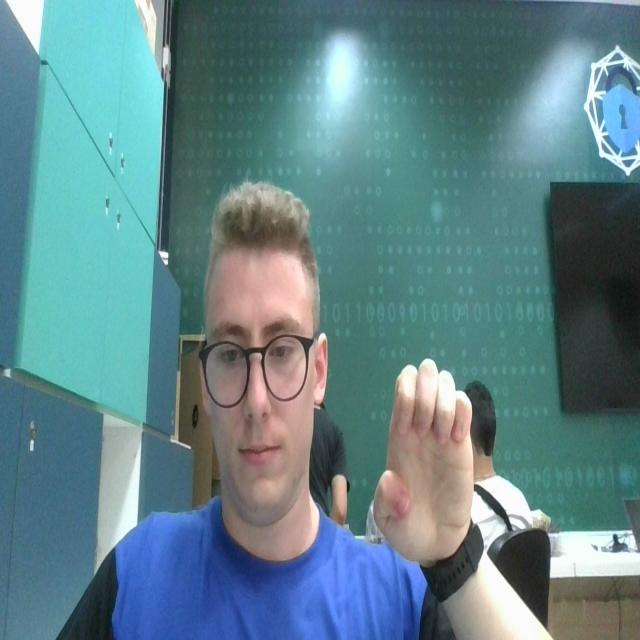E: (374, 358, 478, 566)
